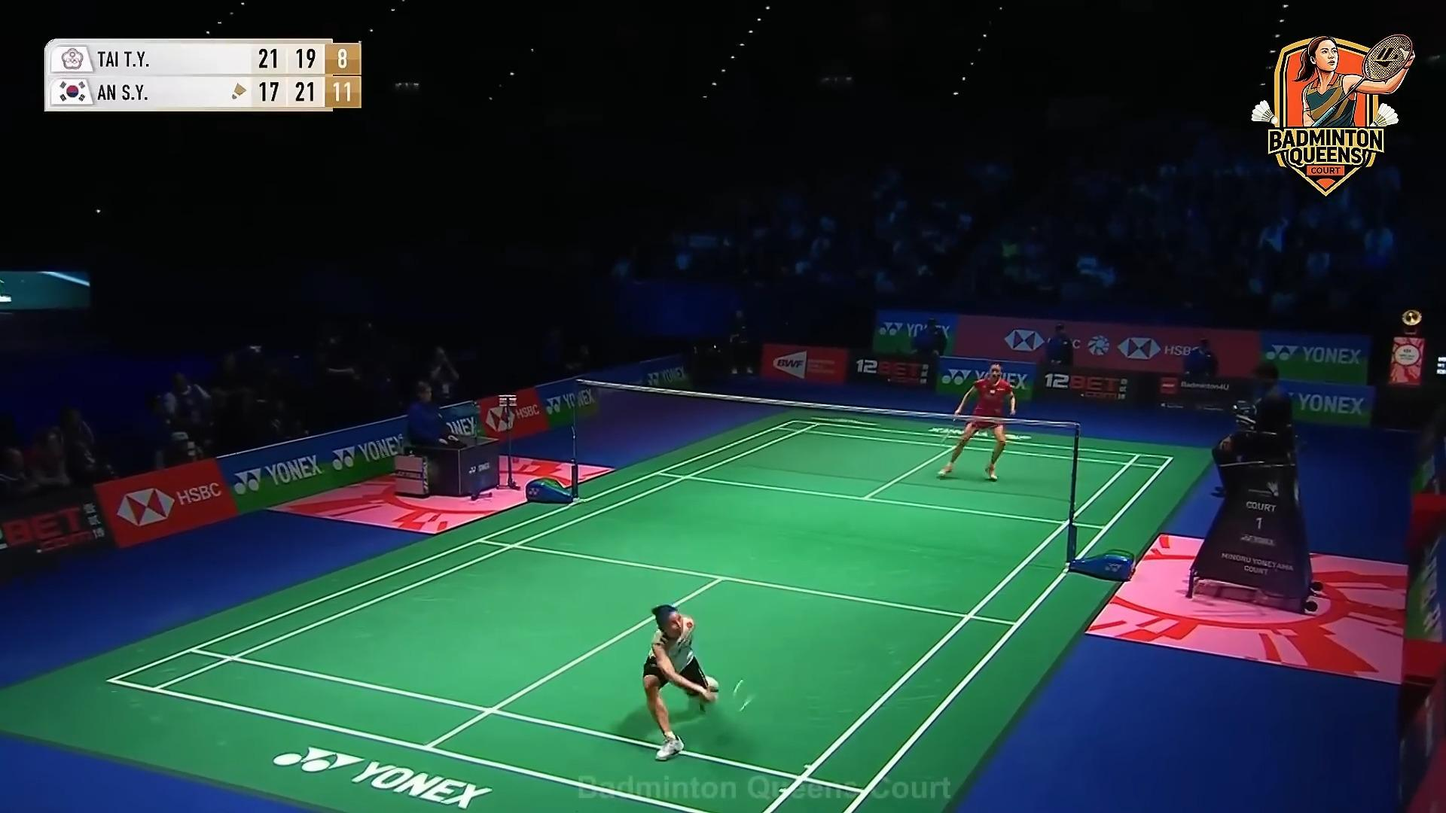player: (641, 603, 719, 764), (940, 361, 1016, 481)
